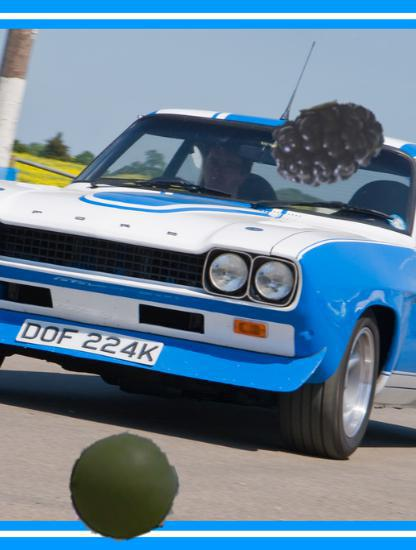Grape: (68, 431, 178, 541)
Mulberry: (266, 95, 392, 221)
